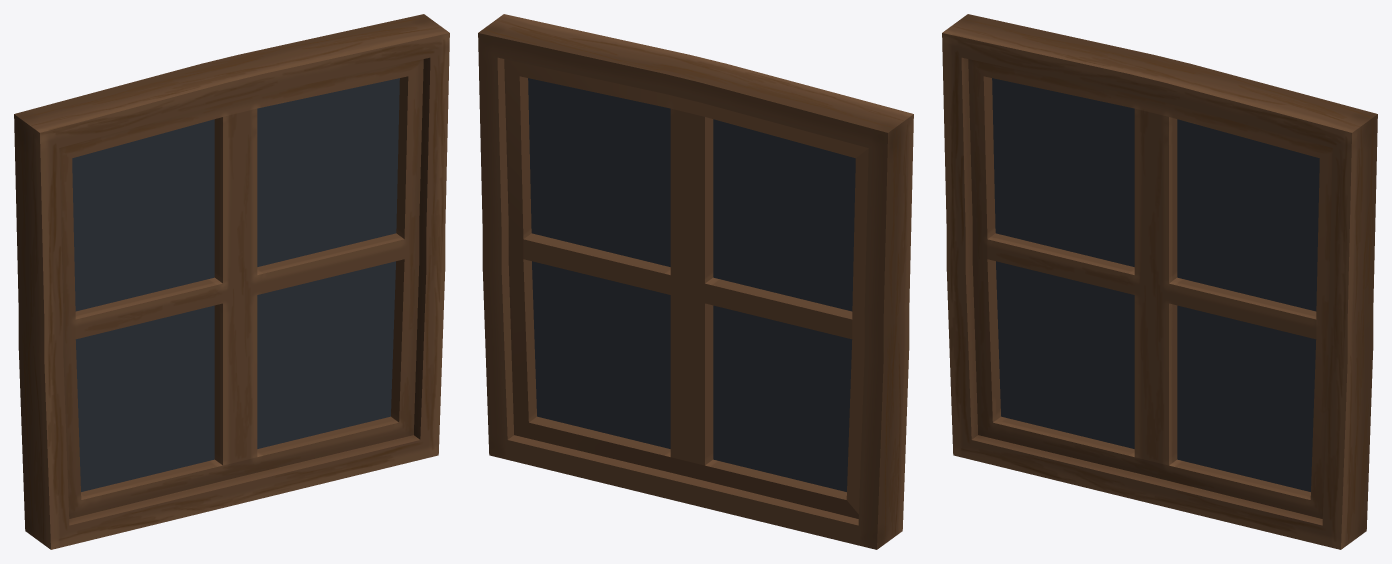
The model's file is window1.fbx.
3 renders of one model, left to right at view 1: azimuth 30°, elevation 25°; view 2: azimuth 150°, elevation 25°; view 3: azimuth 330°, elevation 25°, orthographic.
Visible parts, largest first — view 1: Window1_border; view 2: Window1_border; view 3: Window1_border.
Boxes of the visible parts, box(x1,y1,x2,y2) form: Window1_border: box(14, 14, 449, 549); Window1_border: box(478, 14, 913, 549); Window1_border: box(942, 14, 1377, 549).
Bounding box in the file's own units: 1.51 × 1.5 × 0.1652.
